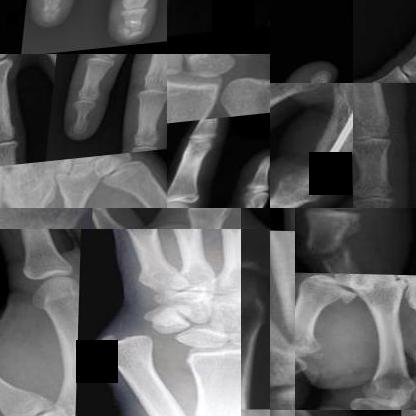fracture: (300, 83, 352, 184), (295, 218, 364, 273), (270, 229, 295, 348), (122, 12, 163, 51), (0, 168, 32, 207), (317, 280, 357, 307), (41, 4, 76, 34), (257, 67, 269, 114)
